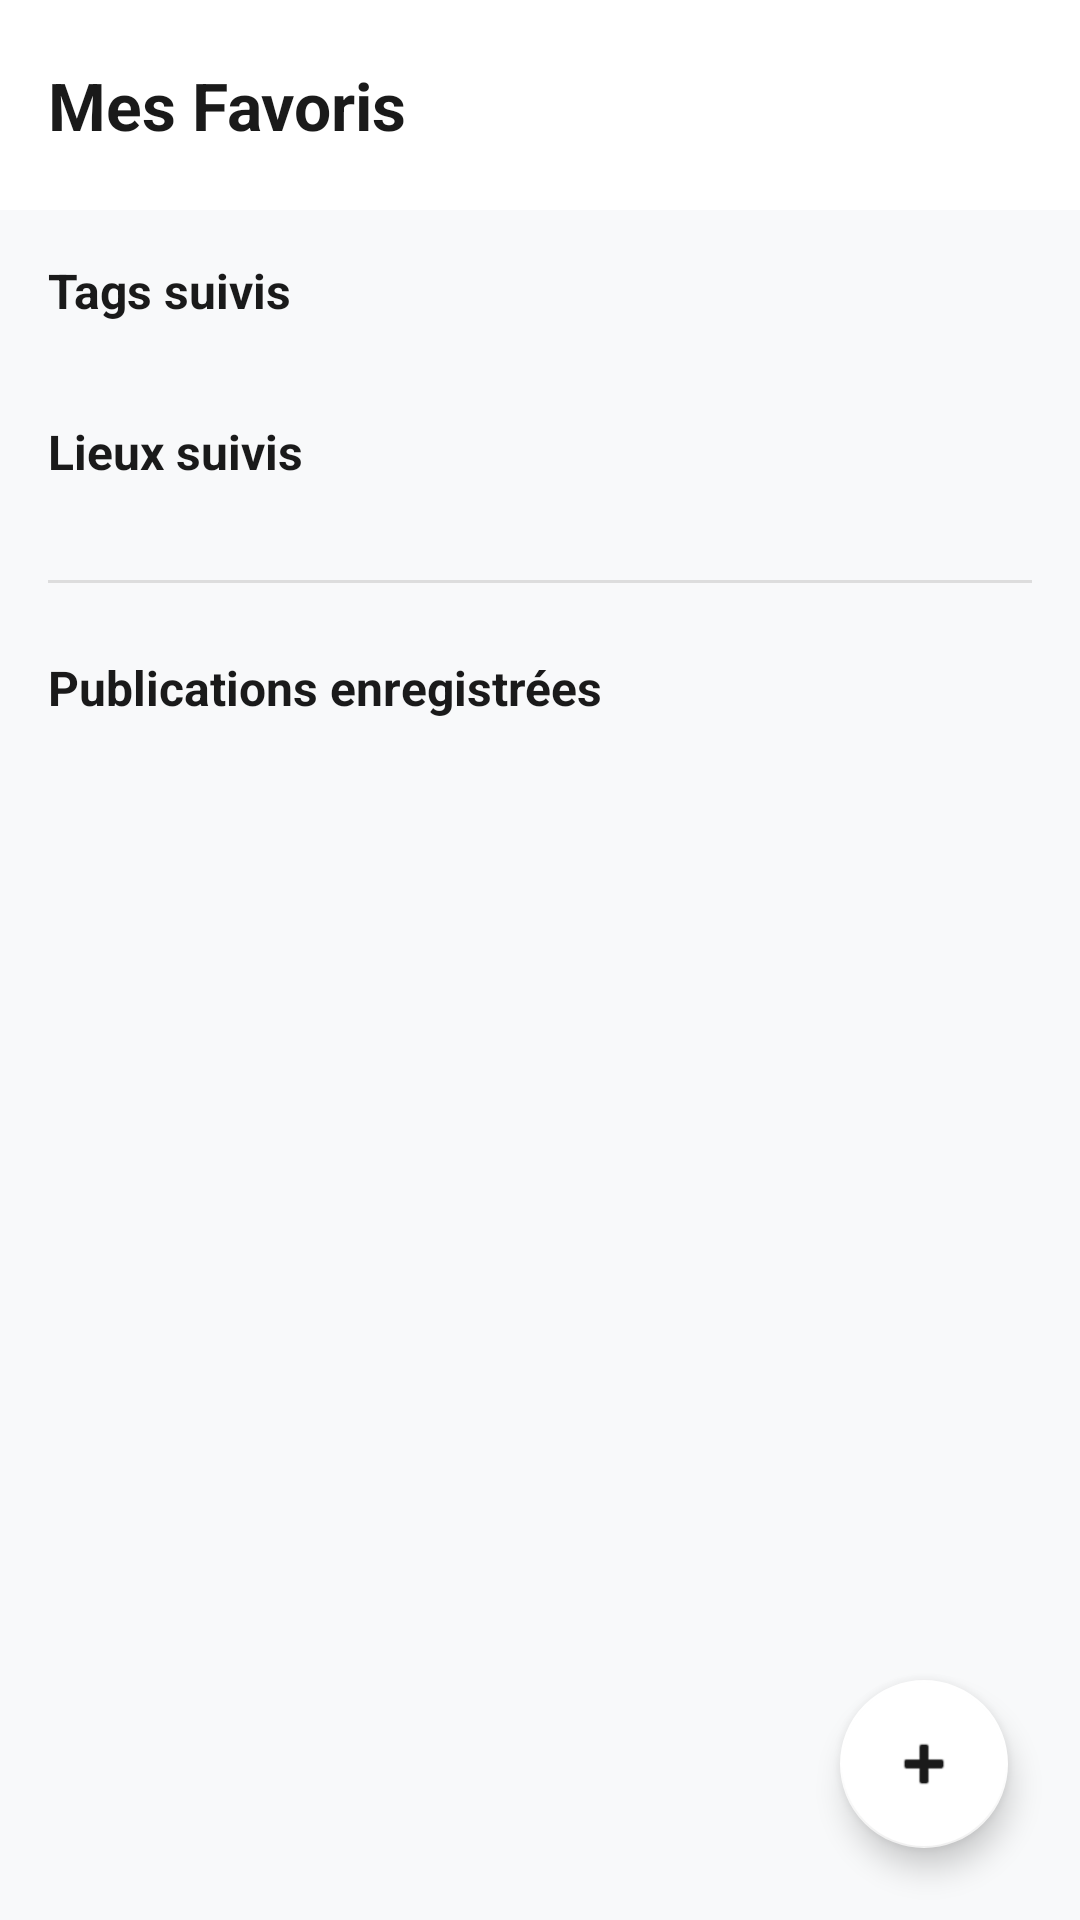

Screen size 1080px x 1920px. Icon name, then its center in pixels as (x=x, y=y):
Ajouter un favori: (x=926, y=1796)
